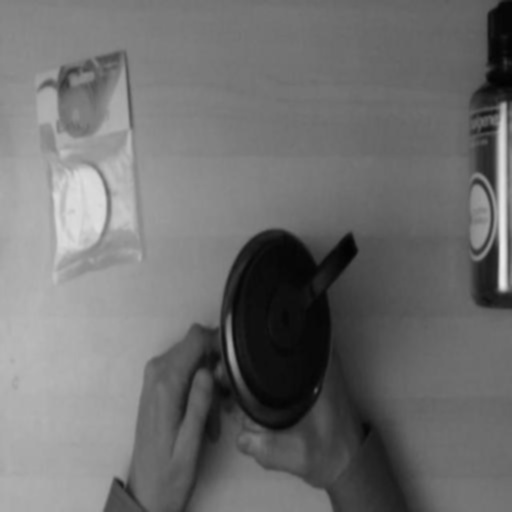bottle: (220, 230, 358, 429)
